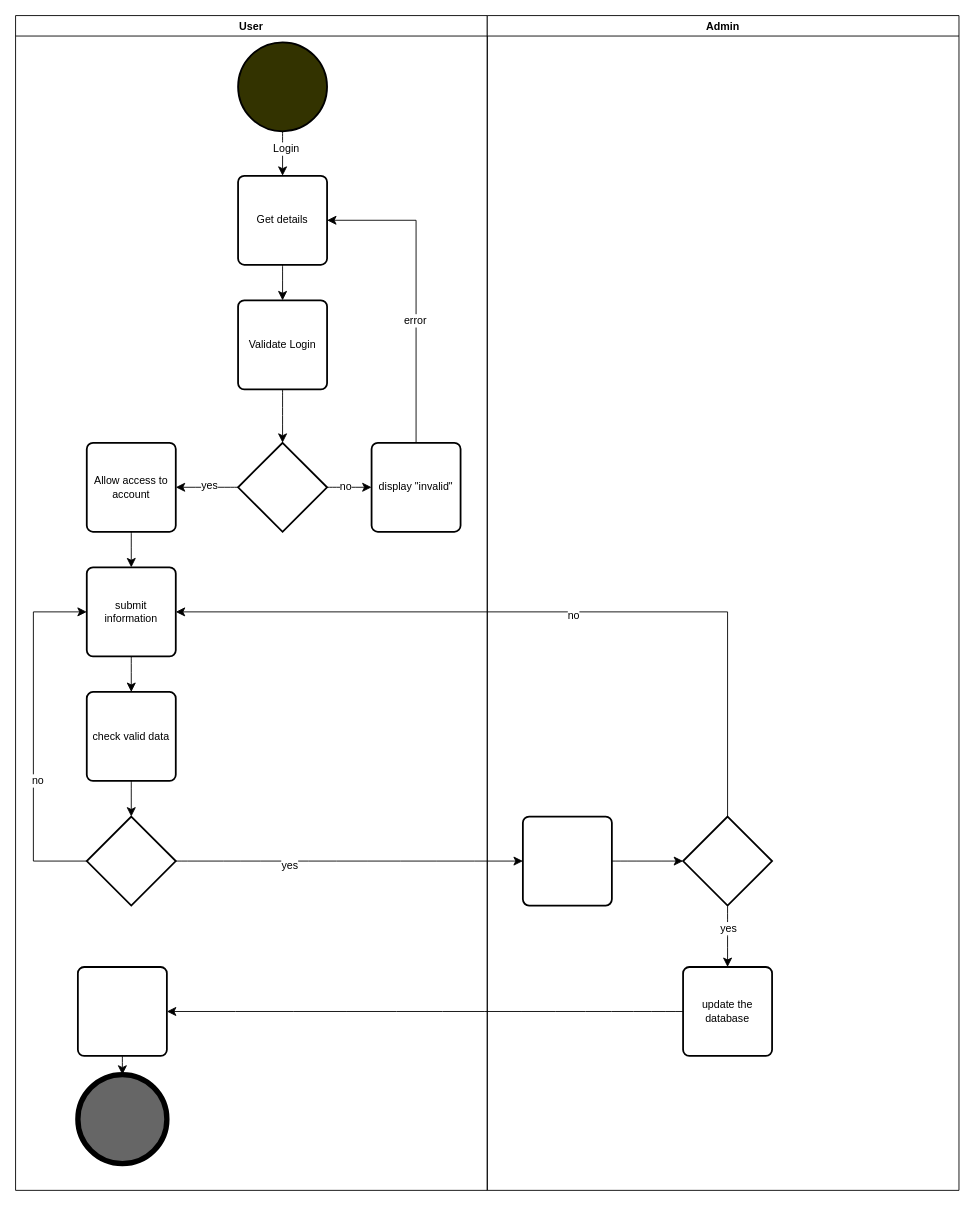
This 975x1206 diagram has some shape labels left out. Here are the shapes that lost their labels. From the top down, the box of each, then its label:
(522, 815, 612, 906): review pending submissions
(77, 966, 167, 1056): can view new sites
